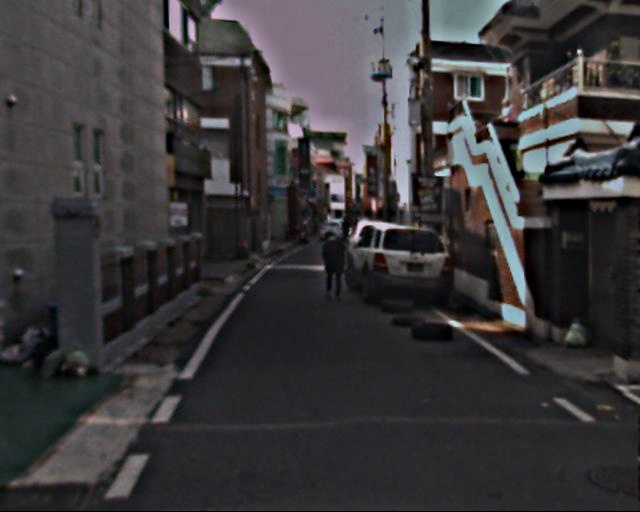person: (318, 229, 350, 306)
